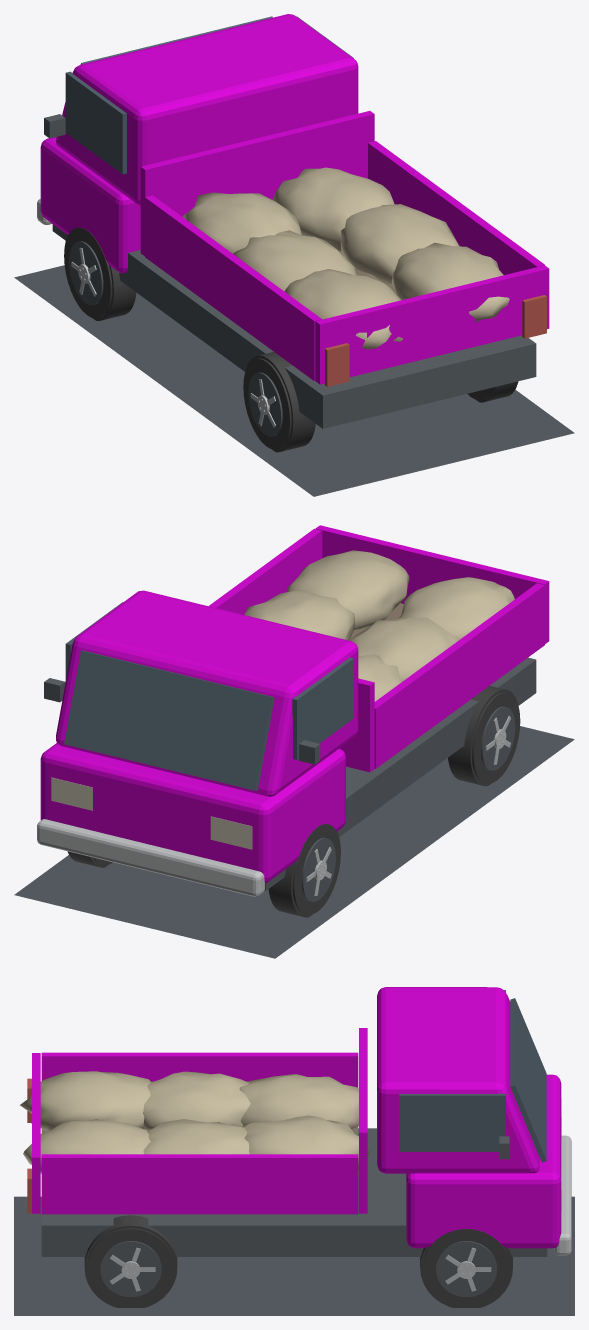
The model's file is pikap.glb.
3 renders of one model, top to bottom at view 1: azimuth 30°, elevation 25°; view 2: azimuth 150°, elevation 25°; view 3: azimuth 270°, elevation 25°, orthographic. The views are drawn at different scales.
Parts seen in each view (by area): view 1: main; view 2: main; view 3: main.
Part boxes in pixels (x1,y1,x2,y2): main: (14,14,574,496); main: (14,525,574,958); main: (14,987,574,1315).
Bounding box in the file's own units: 1.7 × 1.43 × 3.26.
